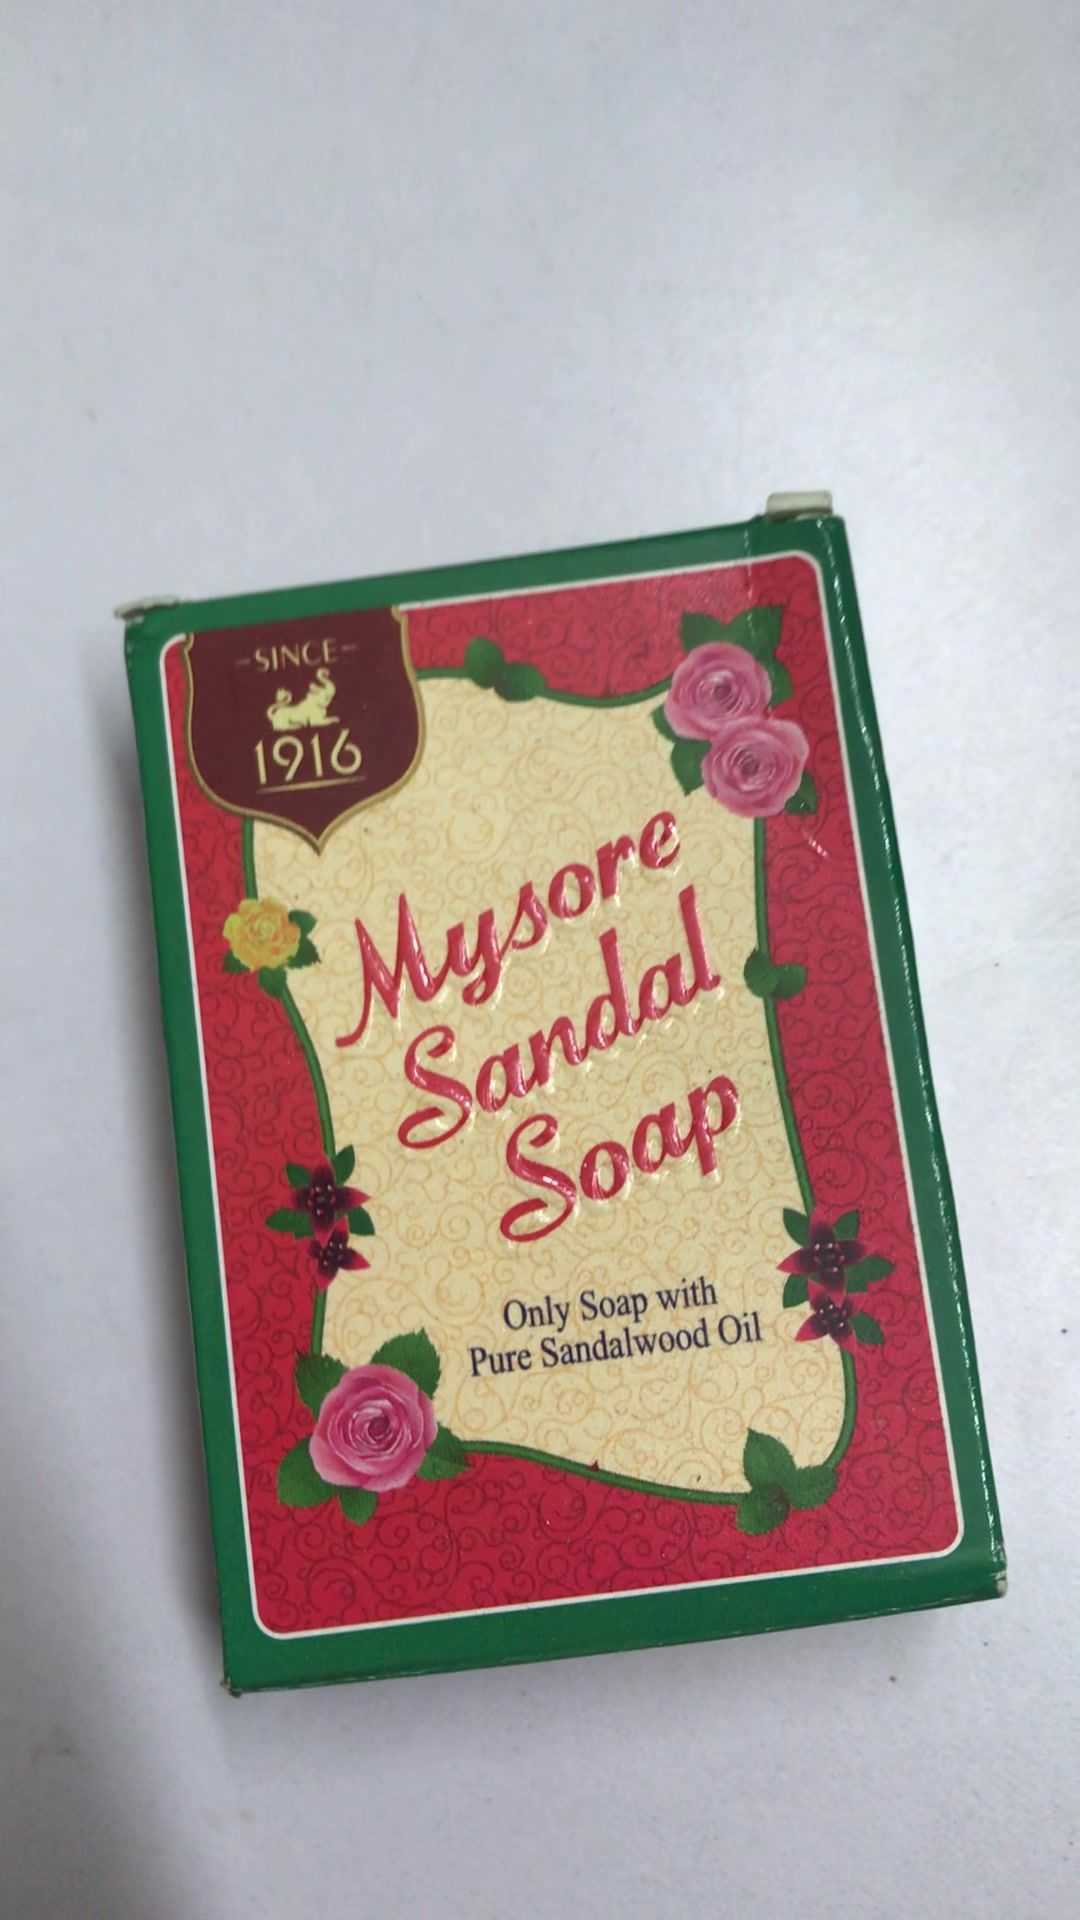mysore sandal soap: (123, 498, 1011, 1700)
